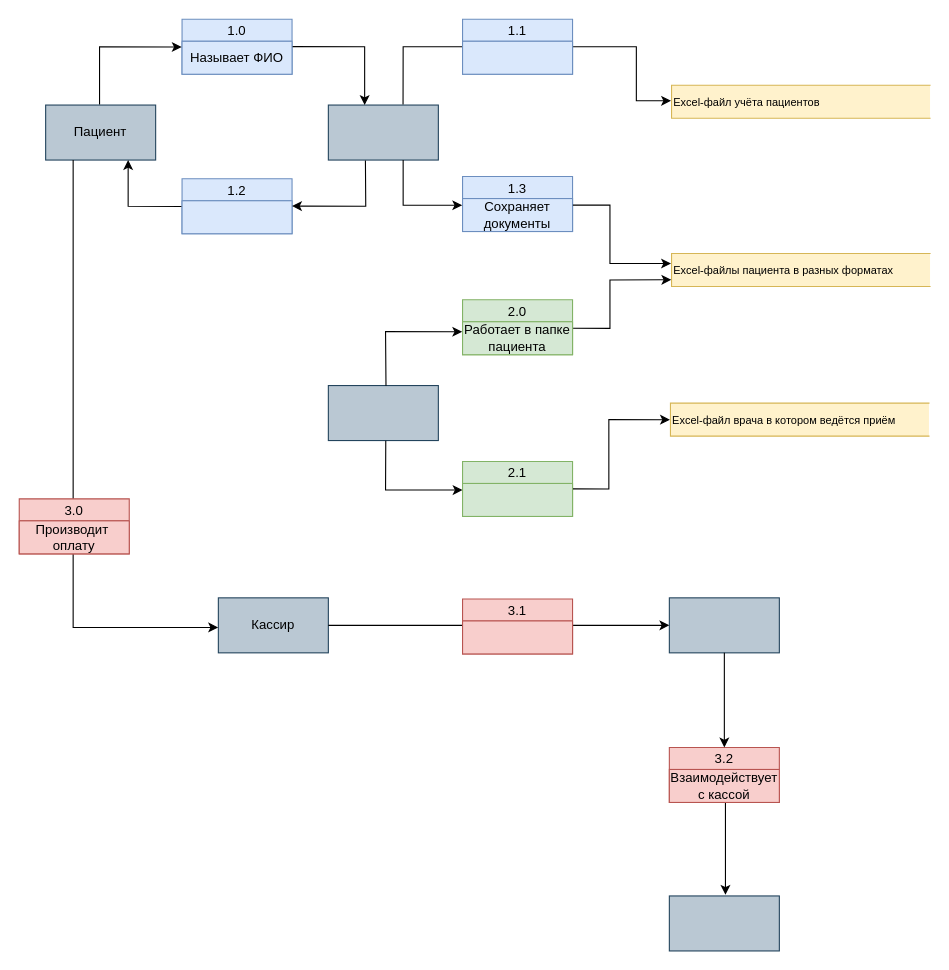
Some shapes in this 949 by 970 pixel diagram are drawn without their labels. The centre of each missing label's shape, as x and y in pixels:
1С.Бухгалтерия: [723,625]
Администратор: [382,132]
Вносит заметки по пациенту: [517,499]
Врач: [382,412]
Заключает соглашения: [236,217]
Ищет пациента: [517,57]
ККМ: [723,923]
Фиксирует оплату: [517,637]
